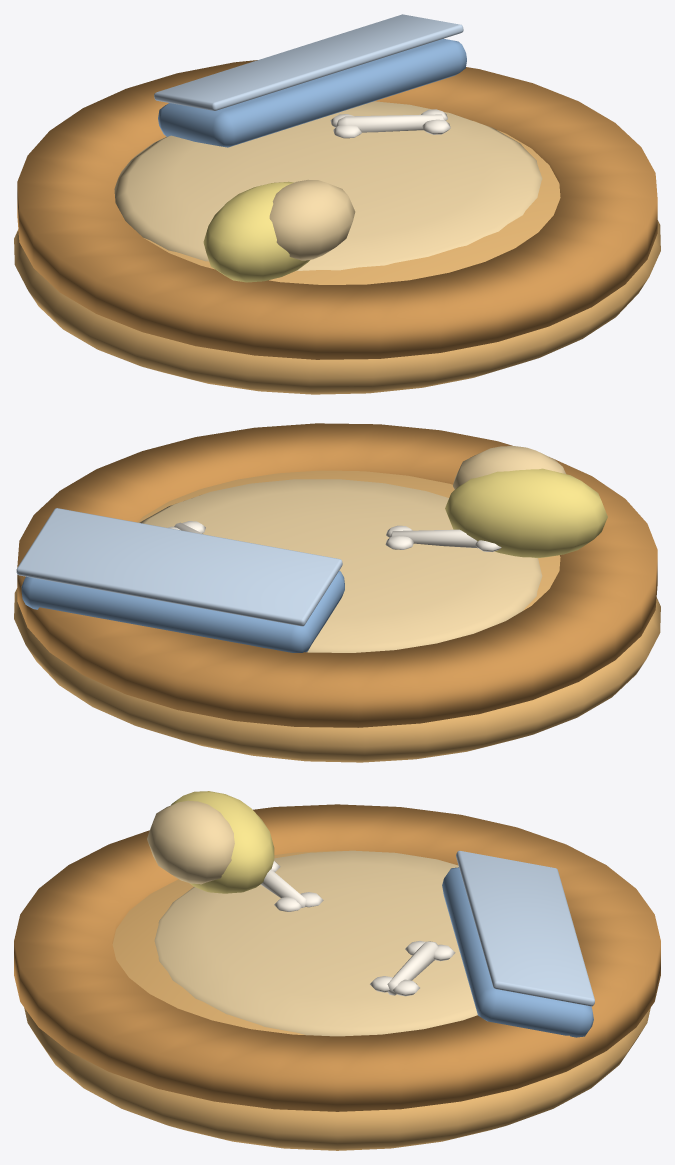
File: nap-cushion.glb
The picture shows the model from 3 angles, top to bottom: view 1: azimuth 30°, elevation 25°; view 2: azimuth 150°, elevation 25°; view 3: azimuth 270°, elevation 25°; orthographic projection.
Visible parts, largest first — view 1: cushion; view 2: cushion; view 3: cushion.
Boxes of the visible parts, x1,y1,x2,y2 form: cushion: (14, 14, 660, 394); cushion: (14, 423, 660, 762); cushion: (14, 791, 660, 1150).
Size of the model in its own units: 0.88 by 0.3 by 0.86.
